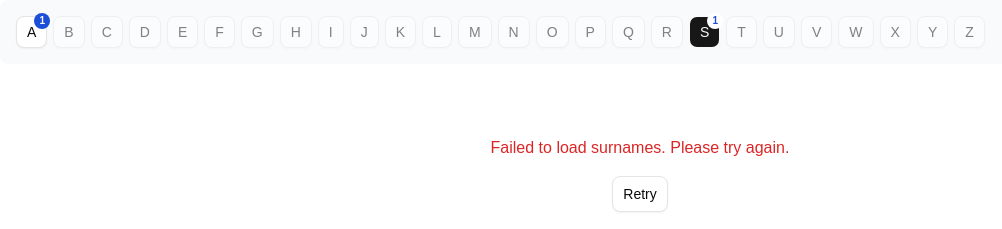
Scenario: SurnameBrowser › clears a failed letter load when the letter is cleared (#946)
Check: the text "Failed to load surnames. Please try again." is shown, box [491,139,789,156]
What coordinates should you click on to do the following:
click the button "S 1"
I would click on:
 (705, 32)
Its box is [689,16,720,48].
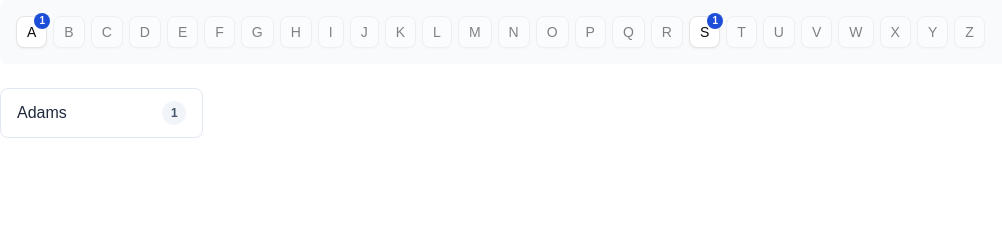
Check: the text "Adams" is shown, box [17,101,67,125]
Check: the text "Failed to load surnames. Please try again." is gone
